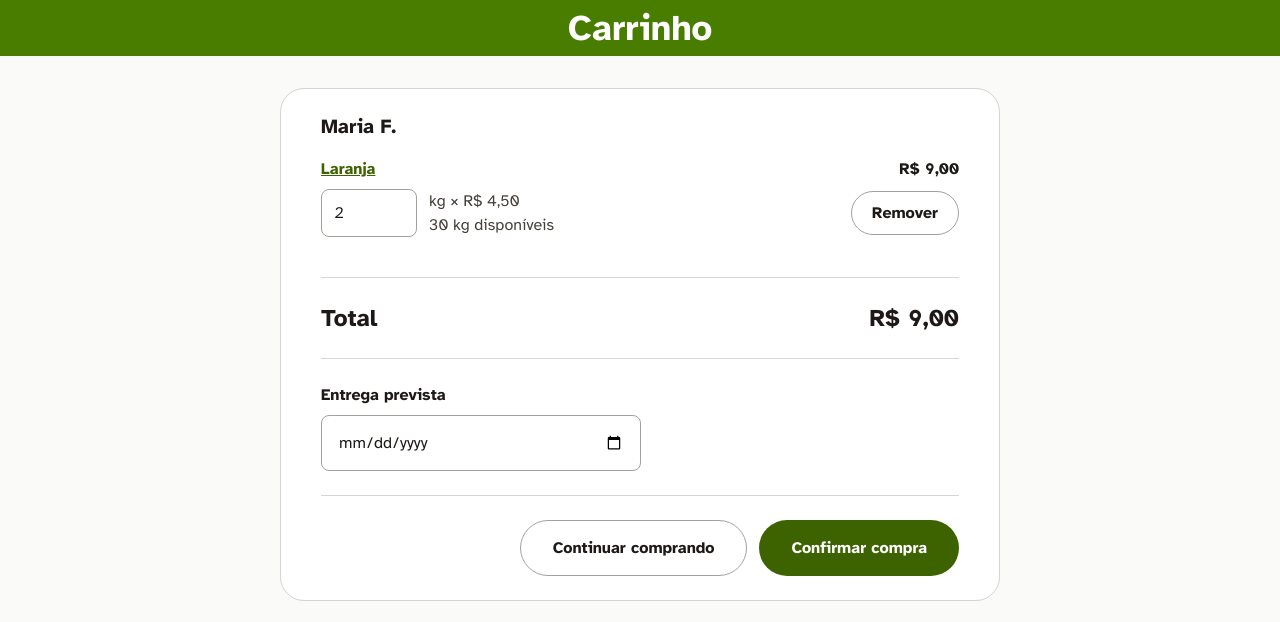
it: Cart › keeps the removed line after the last product leaves
This screenshot has width=1280, height=622.
What coordinates should you click on to do the following:
click the button with aria-label "Remover Laranja"
I would click on:
 (905, 213)
Its box is [851,191,959,235].
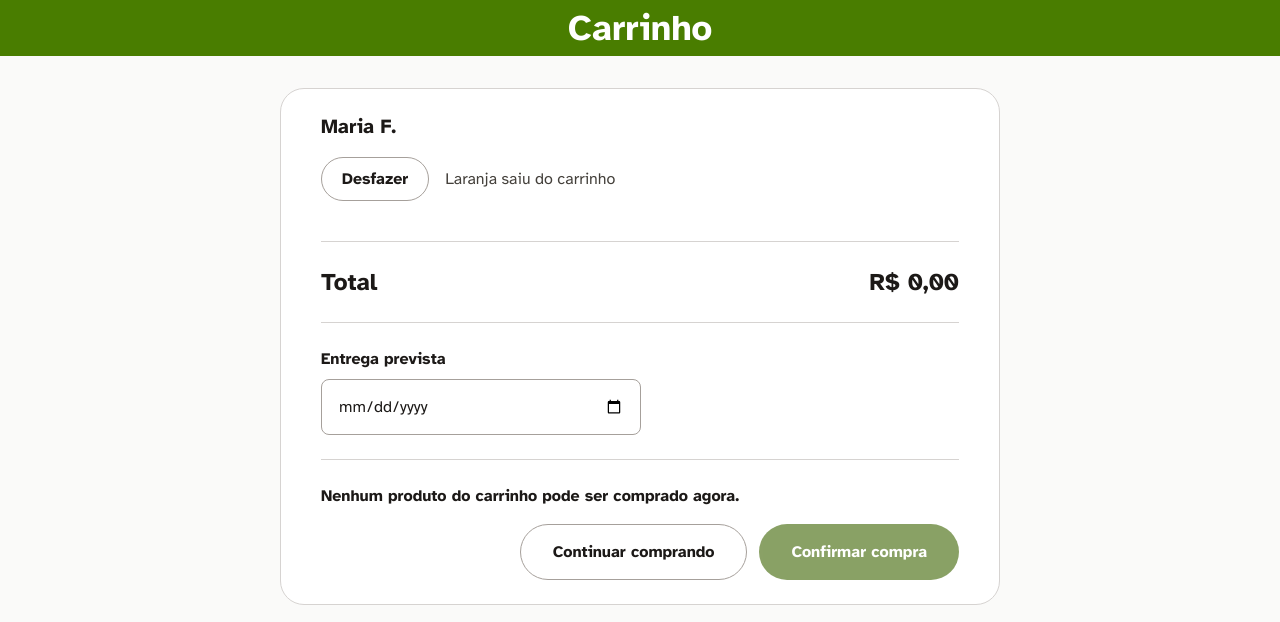
expect the text "Laranja saiu do carrinho" is shown: met, box [445,167,615,191]
expect the text "Nenhum produto do carrinho pode ser comprado agora." is shown: met, box [321,486,739,506]
expect the button "Confirmar compra" is disabled: met, box [759,524,959,580]
